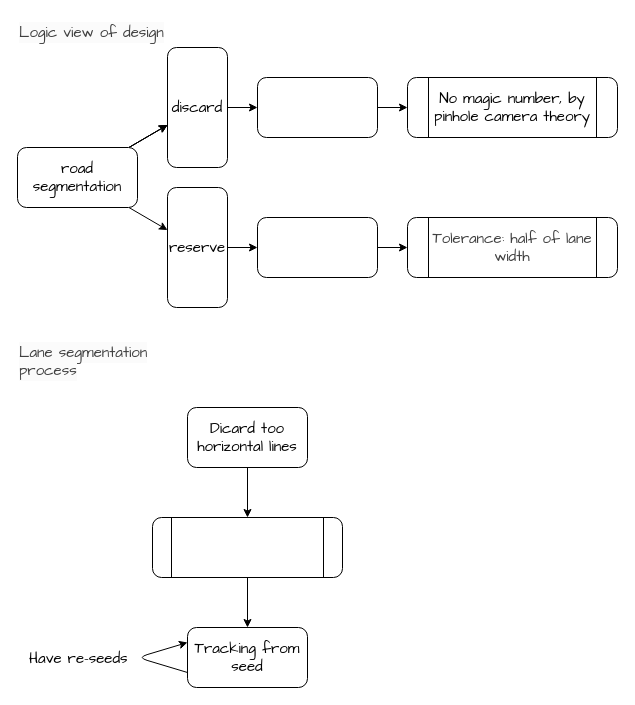
Some shapes in this 635 by 705 pixel diagram are drawn without their labels. Here are the shapes that lost their labels. From the top down, the centre of each, then its label:
At point 317,107: "停止線，斑馬線(too horizontal)".
At point 317,247: "The lanes are close to middle".
At point 247,547: "Use ROI for limiting tolerance".
